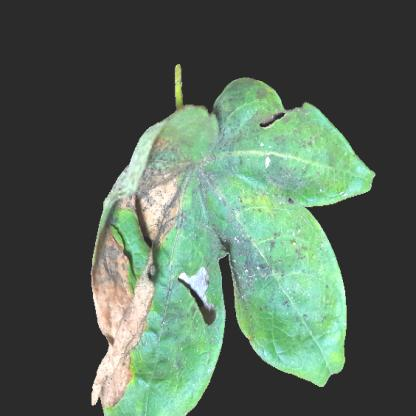curl_stage1: (329, 342, 347, 370)
sooty: (117, 289, 189, 388), (263, 225, 319, 325), (266, 119, 336, 193), (188, 134, 248, 208), (217, 225, 267, 301), (153, 138, 183, 227), (224, 87, 269, 137)
